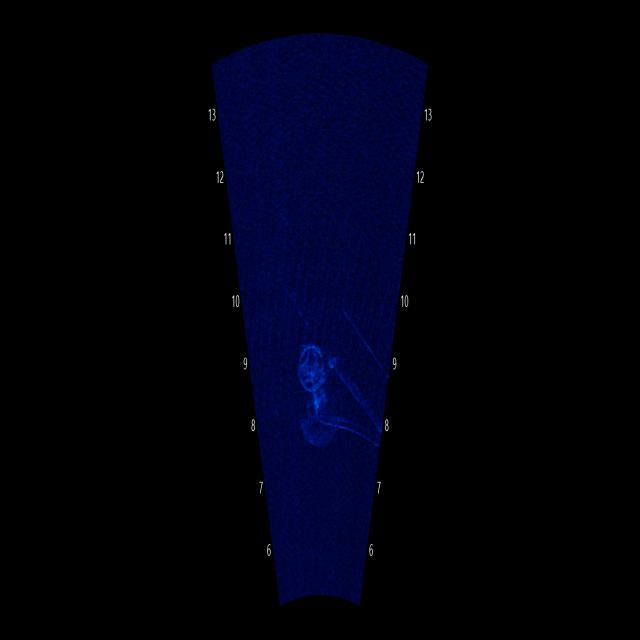circle: (289, 328, 331, 419)
